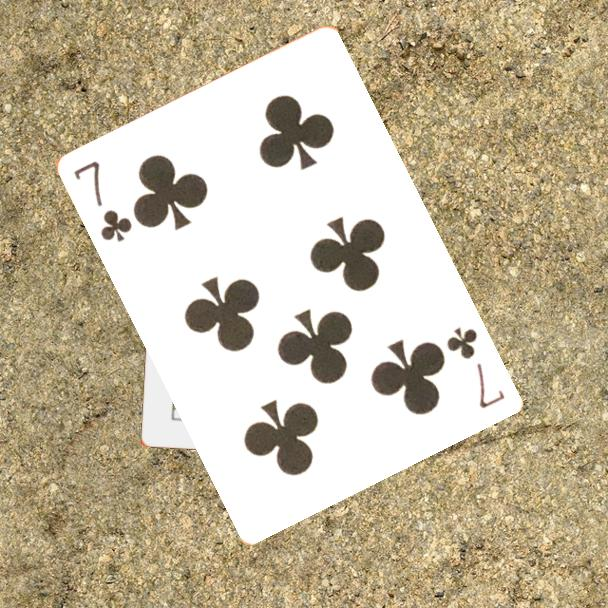c07: (70, 157, 136, 246), (443, 324, 509, 412)
